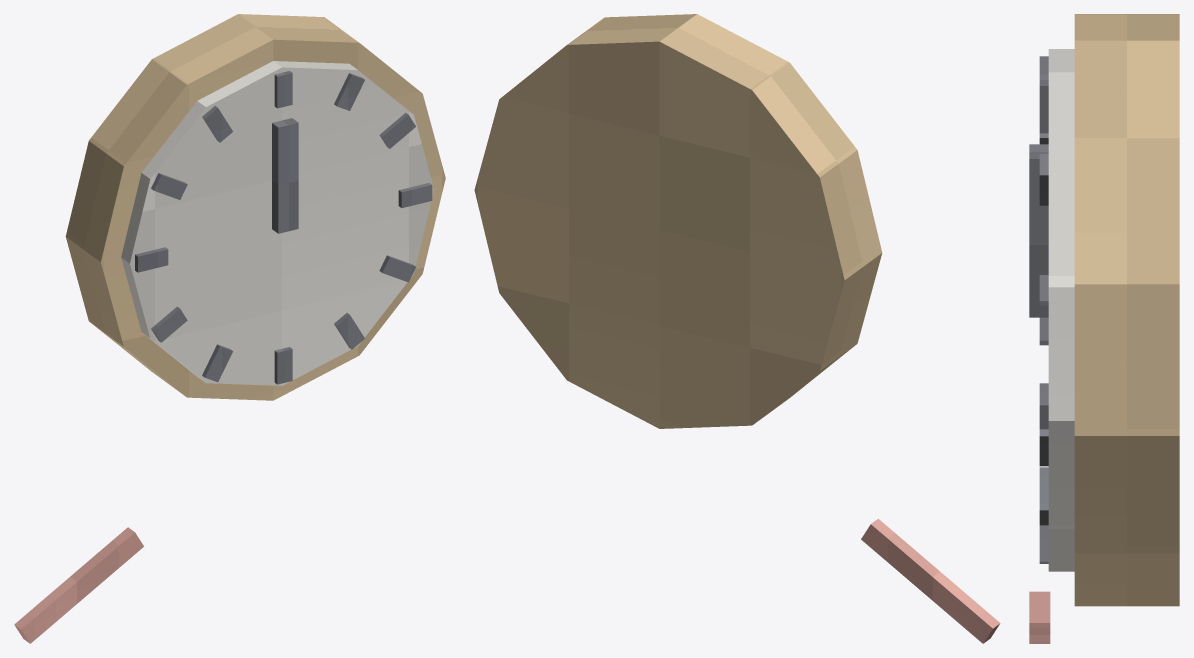
Rendered from pixel-modern-apartments-wall-clock-b750c854__29863.glb.
The picture shows the model from 3 angles, left to right: view 1: azimuth 30°, elevation 25°; view 2: azimuth 150°, elevation 25°; view 3: azimuth 270°, elevation 25°; orthographic projection. The views are drawn at different scales.
Visible parts, largest first — view 1: wall-clock, hands/coral, hands/charcoal; view 2: wall-clock, hands/coral; view 3: wall-clock, hands/charcoal, hands/coral.
Part boxes in pixels (x1,y1,x2,y2): wall-clock: [65, 14, 445, 400]; hands/coral: [14, 527, 143, 643]; hands/charcoal: [272, 118, 298, 233]; wall-clock: [474, 14, 882, 428]; hands/coral: [861, 518, 1000, 643]; wall-clock: [1039, 14, 1179, 606]; hands/charcoal: [1029, 144, 1048, 317]; hands/coral: [1029, 591, 1050, 643].
Bounding box in the file's own units: 0.4335 × 0.4992 × 0.086.
Materials: 4 (4 with a texture image).
